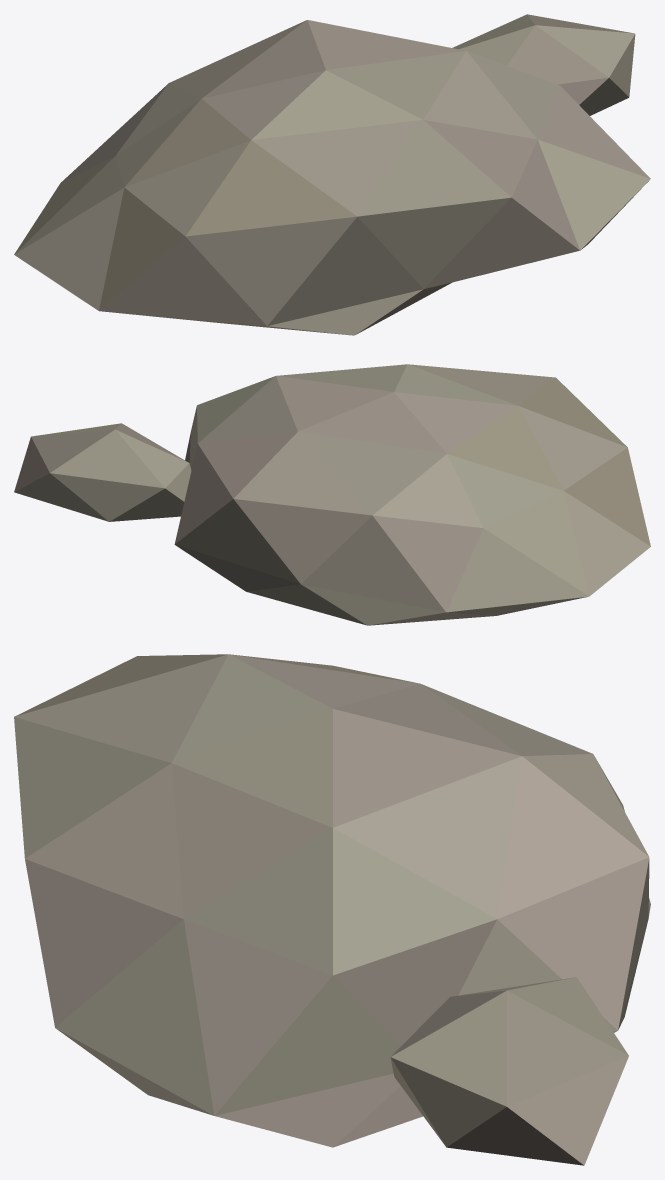
Rendered from env_limestone_b.glb.
3 views of the same model, one above another, from view 1: azimuth 30°, elevation 25°; view 2: azimuth 150°, elevation 25°; view 3: azimuth 270°, elevation 25° (orthographic). The views are drawn at different scales.
Visible parts, largest first — view 1: env_limestone_b; view 2: env_limestone_b; view 3: env_limestone_b.
Part boxes in pixels (x1,y1,x2,y2): env_limestone_b: (14, 14, 650, 335); env_limestone_b: (14, 364, 650, 625); env_limestone_b: (14, 654, 650, 1165).
Bounding box in the file's own units: 5.47 × 1.65 × 3.29.
